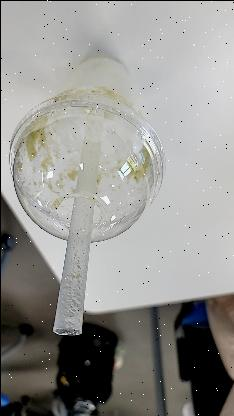Others: (8, 38, 168, 242), (7, 90, 172, 240), (58, 138, 88, 336)
